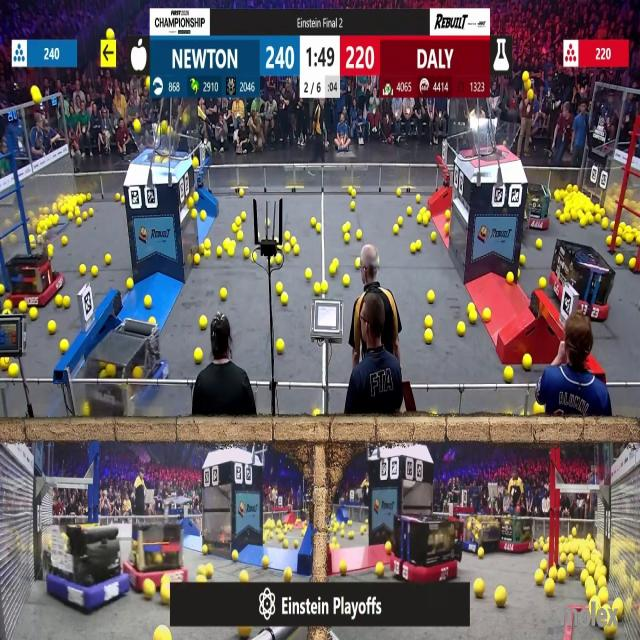ball_airborne: (32, 88, 40, 105), (106, 30, 115, 40), (134, 120, 141, 132), (523, 72, 530, 82), (182, 113, 188, 124), (525, 80, 532, 89), (163, 120, 169, 130), (528, 91, 534, 101), (191, 159, 197, 169), (145, 76, 150, 88), (154, 153, 161, 161)
ball_ground: (495, 587, 506, 608), (473, 580, 483, 599), (144, 582, 154, 600), (162, 587, 172, 605), (604, 625, 616, 640), (544, 581, 554, 598), (157, 627, 171, 639), (523, 354, 532, 370), (534, 570, 544, 584), (598, 590, 608, 604), (8, 363, 18, 376), (424, 328, 433, 342), (240, 570, 250, 582), (504, 366, 512, 380), (194, 349, 202, 363), (376, 562, 384, 576), (277, 340, 285, 354), (82, 405, 90, 419), (340, 560, 348, 574), (587, 586, 595, 600), (47, 321, 55, 334), (61, 341, 69, 354), (629, 257, 637, 270), (558, 569, 566, 582), (284, 568, 292, 581), (535, 405, 544, 416), (458, 321, 465, 335), (484, 310, 492, 322), (425, 316, 433, 328), (30, 308, 38, 320), (144, 295, 152, 307), (206, 565, 214, 577), (468, 312, 476, 324), (56, 294, 64, 306), (314, 282, 322, 294), (0, 357, 8, 369), (276, 282, 284, 294), (566, 563, 574, 575), (201, 316, 208, 329), (626, 234, 634, 245), (506, 273, 513, 285), (281, 292, 288, 304), (344, 275, 351, 287), (220, 288, 227, 300), (579, 571, 586, 583), (198, 573, 207, 582), (18, 302, 26, 312), (328, 266, 336, 276), (4, 301, 12, 311), (546, 567, 554, 577), (598, 576, 606, 586), (428, 289, 434, 302), (539, 278, 546, 289), (264, 556, 270, 568), (64, 295, 70, 307), (322, 282, 328, 294), (127, 279, 134, 289), (244, 248, 251, 258), (617, 254, 624, 264), (276, 254, 283, 264), (445, 210, 452, 220), (284, 244, 291, 254), (187, 198, 194, 208), (93, 267, 99, 278), (307, 269, 313, 280), (233, 551, 239, 562), (79, 266, 85, 277), (193, 253, 199, 264), (602, 218, 608, 229), (386, 541, 392, 552), (467, 304, 474, 313), (62, 237, 69, 246), (284, 233, 291, 242), (292, 246, 299, 255), (238, 233, 245, 242), (560, 554, 567, 563), (105, 254, 111, 264), (520, 254, 526, 264), (356, 231, 362, 241), (216, 247, 222, 257), (430, 233, 436, 243), (203, 543, 209, 553), (316, 222, 322, 232), (479, 549, 485, 559), (540, 560, 546, 570), (416, 241, 422, 251), (445, 223, 451, 233), (411, 244, 417, 254), (423, 215, 429, 225), (344, 222, 350, 232), (222, 240, 228, 250), (190, 210, 196, 220), (74, 207, 80, 217), (588, 213, 594, 223), (555, 190, 561, 200), (0, 284, 5, 295), (227, 248, 233, 257), (617, 238, 623, 247), (205, 240, 211, 249), (350, 202, 356, 211), (397, 216, 403, 225), (82, 210, 88, 219), (534, 541, 540, 550), (571, 528, 577, 537), (536, 240, 541, 250), (393, 223, 398, 233), (345, 234, 350, 244), (579, 217, 584, 227), (314, 410, 320, 418), (205, 250, 211, 258), (48, 245, 52, 257), (596, 214, 602, 222), (331, 257, 337, 265), (290, 238, 296, 246), (68, 212, 74, 220), (348, 531, 354, 539), (416, 193, 421, 202), (606, 237, 611, 246), (560, 214, 565, 223), (201, 211, 206, 220), (76, 216, 81, 225), (252, 252, 257, 261), (311, 217, 316, 226), (557, 209, 562, 218), (356, 257, 360, 268), (419, 208, 425, 215), (396, 188, 401, 196), (233, 222, 238, 230), (90, 208, 95, 216), (115, 192, 120, 200), (150, 316, 155, 324), (283, 539, 288, 547), (278, 535, 283, 543), (542, 544, 547, 552), (88, 192, 93, 200), (341, 531, 346, 539), (351, 189, 356, 197), (418, 214, 422, 223), (636, 237, 640, 246), (265, 538, 269, 547), (408, 208, 413, 215), (237, 217, 242, 224), (618, 230, 623, 237), (360, 527, 365, 534), (240, 188, 244, 196), (242, 212, 246, 220), (348, 520, 353, 526), (120, 198, 124, 205)
goal: (464, 122, 521, 160), (131, 130, 189, 162)
robot_blue: (43, 527, 128, 613), (92, 321, 170, 408), (458, 514, 498, 555)
robot_red: (393, 505, 464, 582), (549, 242, 611, 324), (128, 517, 186, 583), (5, 247, 65, 310), (499, 515, 535, 554), (525, 189, 550, 230)
